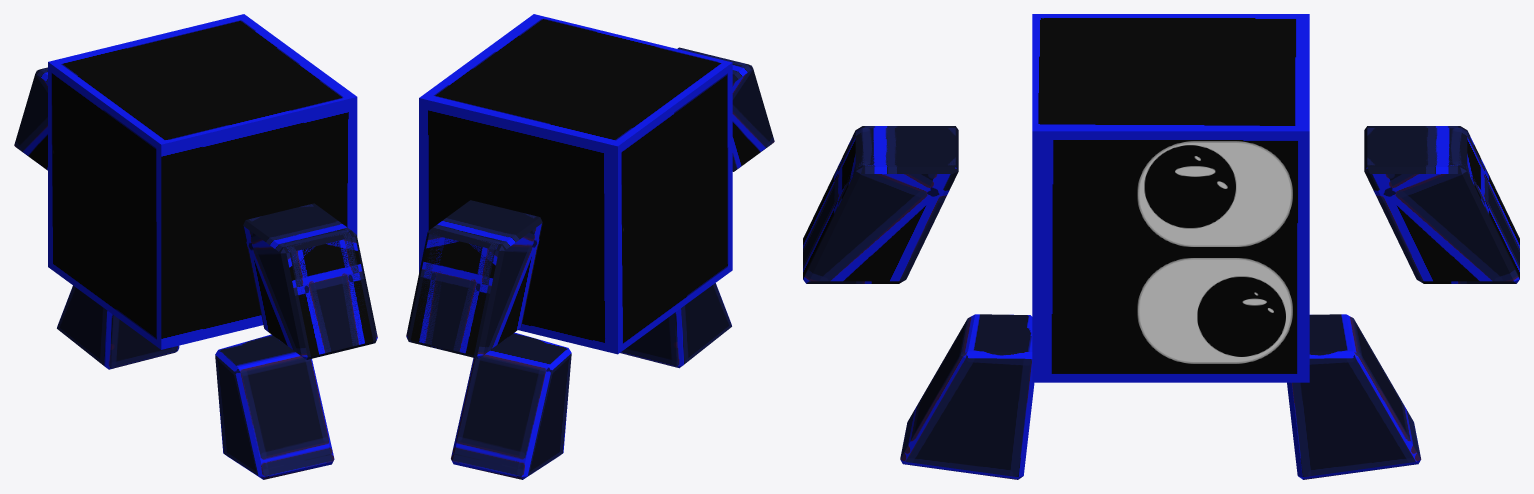
File: Enemy2.gltf
3 views of the same model, side by side, from view 1: azimuth 30°, elevation 25°; view 2: azimuth 150°, elevation 25°; view 3: azimuth 270°, elevation 25° (orthographic). The views are drawn at different scales.
Parts seen in each view (by area): view 1: Cube, Cube.003, Cube.001; view 2: Cube, Cube.001, Cube.003; view 3: Cube, Cube.001, Cube.003.
Part boxes in pixels (x1=…): Cube: x1=48, y1=14, x2=357, y2=349; Cube.003: x1=57, y1=285, x2=334, y2=479; Cube.001: x1=14, y1=67, x2=377, y2=359; Cube: x1=419, y1=14, x2=732, y2=354; Cube.001: x1=406, y1=47, x2=774, y2=358; Cube.003: x1=451, y1=283, x2=731, y2=479; Cube: x1=1032, y1=14, x2=1309, y2=382; Cube.001: x1=803, y1=126, x2=1519, y2=283; Cube.003: x1=900, y1=314, x2=1421, y2=479.
Bounding box in the file's own units: 1.95 × 3.06 × 5.05.
Materials: 2 (2 with a texture image).
